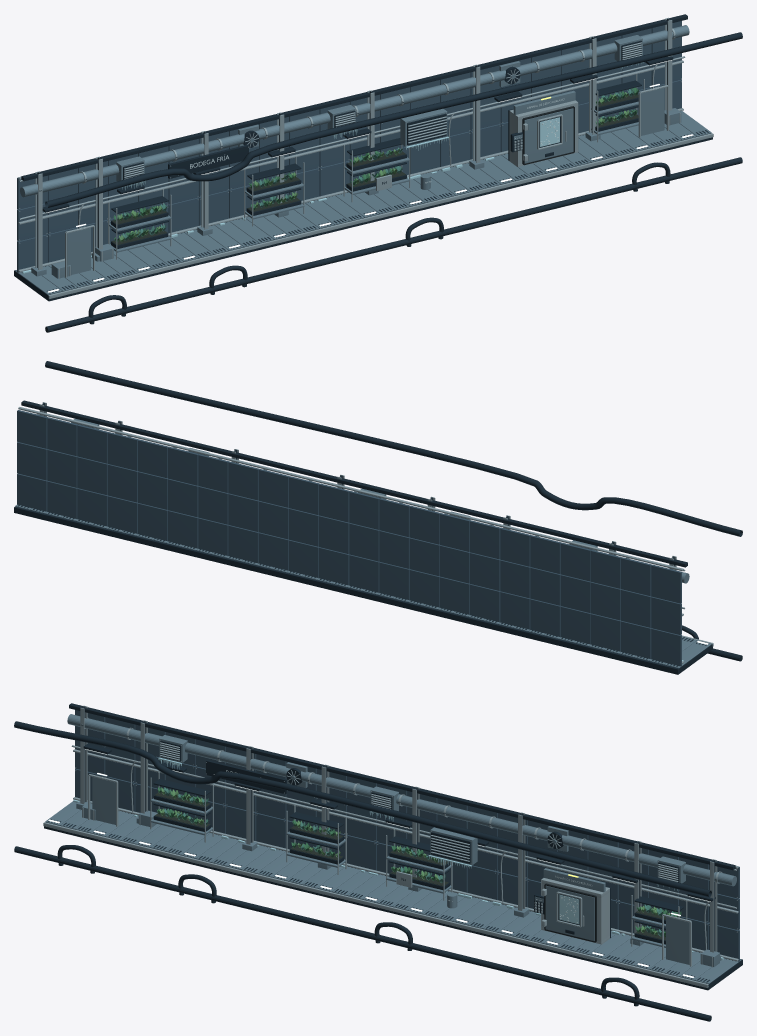
Rendered from BodegaFria.fbx.
3 renders of one model, top to bottom at view 1: azimuth 30°, elevation 25°; view 2: azimuth 150°, elevation 25°; view 3: azimuth 330°, elevation 25°, orthographic.
Visible parts, largest first — view 1: 01_PisoYParedes_Malla, 12_PrimerPlano_Malla, 03_RefrigeracionYTuberias_Malla, 02_Estructura_Malla, 04_EstantesDecorativos_Malla, 07_Camara_PuertaMovil_Malla, 10_Luminarias_Malla, Cartel_Bodega_Placa, Salida_Fondo.001, Salida_Fondo, Camara_RotuloBase, 11_EscarchaYHielo_Malla; view 2: 01_PisoYParedes_Malla, 12_PrimerPlano_Malla, 02_Estructura_Malla, 03_RefrigeracionYTuberias_Malla; view 3: 01_PisoYParedes_Malla, 03_RefrigeracionYTuberias_Malla, 12_PrimerPlano_Malla, 02_Estructura_Malla, 04_EstantesDecorativos_Malla, 07_Camara_PuertaMovil_Malla, 10_Luminarias_Malla, Salida_Fondo.001, Salida_Fondo, Cartel_Bodega_Placa, 11_EscarchaYHielo_Malla, Camara_RotuloBase (+1 smaller).
Part boxes in pixels (left/top/right/bottom): 01_PisoYParedes_Malla: left=14, top=21, right=713, bottom=301; 12_PrimerPlano_Malla: left=45, top=32, right=742, bottom=332; 03_RefrigeracionYTuberias_Malla: left=20, top=25, right=689, bottom=228; 02_Estructura_Malla: left=21, top=14, right=687, bottom=276; 04_EstantesDecorativos_Malla: left=108, top=73, right=644, bottom=259; 07_Camara_PuertaMovil_Malla: left=523, top=108, right=573, bottom=163; 10_Luminarias_Malla: left=42, top=56, right=673, bottom=212; Cartel_Bodega_Placa: left=168, top=144, right=248, bottom=178; Salida_Fondo.001: left=641, top=88, right=664, bottom=135; Salida_Fondo: left=67, top=227, right=90, bottom=274; Camara_RotuloBase: left=513, top=90, right=575, bottom=114; 11_EscarchaYHielo_Malla: left=22, top=62, right=643, bottom=273; 01_PisoYParedes_Malla: left=14, top=407, right=713, bottom=674; 12_PrimerPlano_Malla: left=45, top=361, right=742, bottom=661; 02_Estructura_Malla: left=21, top=400, right=687, bottom=570; 03_RefrigeracionYTuberias_Malla: left=37, top=414, right=689, bottom=609; 01_PisoYParedes_Malla: left=43, top=710, right=742, bottom=990; 03_RefrigeracionYTuberias_Malla: left=67, top=714, right=736, bottom=949; 12_PrimerPlano_Malla: left=14, top=721, right=711, bottom=1021; 02_Estructura_Malla: left=69, top=703, right=735, bottom=960; 04_EstantesDecorativos_Malla: left=150, top=772, right=687, bottom=947; 07_Camara_PuertaMovil_Malla: left=541, top=885, right=594, bottom=940; 10_Luminarias_Malla: left=83, top=743, right=715, bottom=901; Salida_Fondo.001: left=666, top=916, right=689, bottom=964; Salida_Fondo: left=92, top=777, right=115, bottom=824; Cartel_Bodega_Placa: left=206, top=760, right=286, bottom=794; 11_EscarchaYHielo_Malla: left=73, top=757, right=723, bottom=960; Camara_RotuloBase: left=543, top=868, right=605, bottom=892.
Size of the model in its own units: 4600 by 863 by 570.
